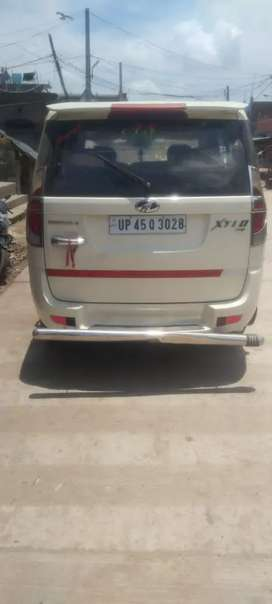UP45Q3028: (108, 214, 187, 234)
